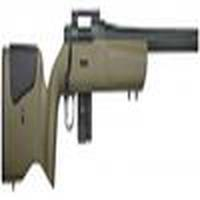gun: (3, 16, 200, 185)
